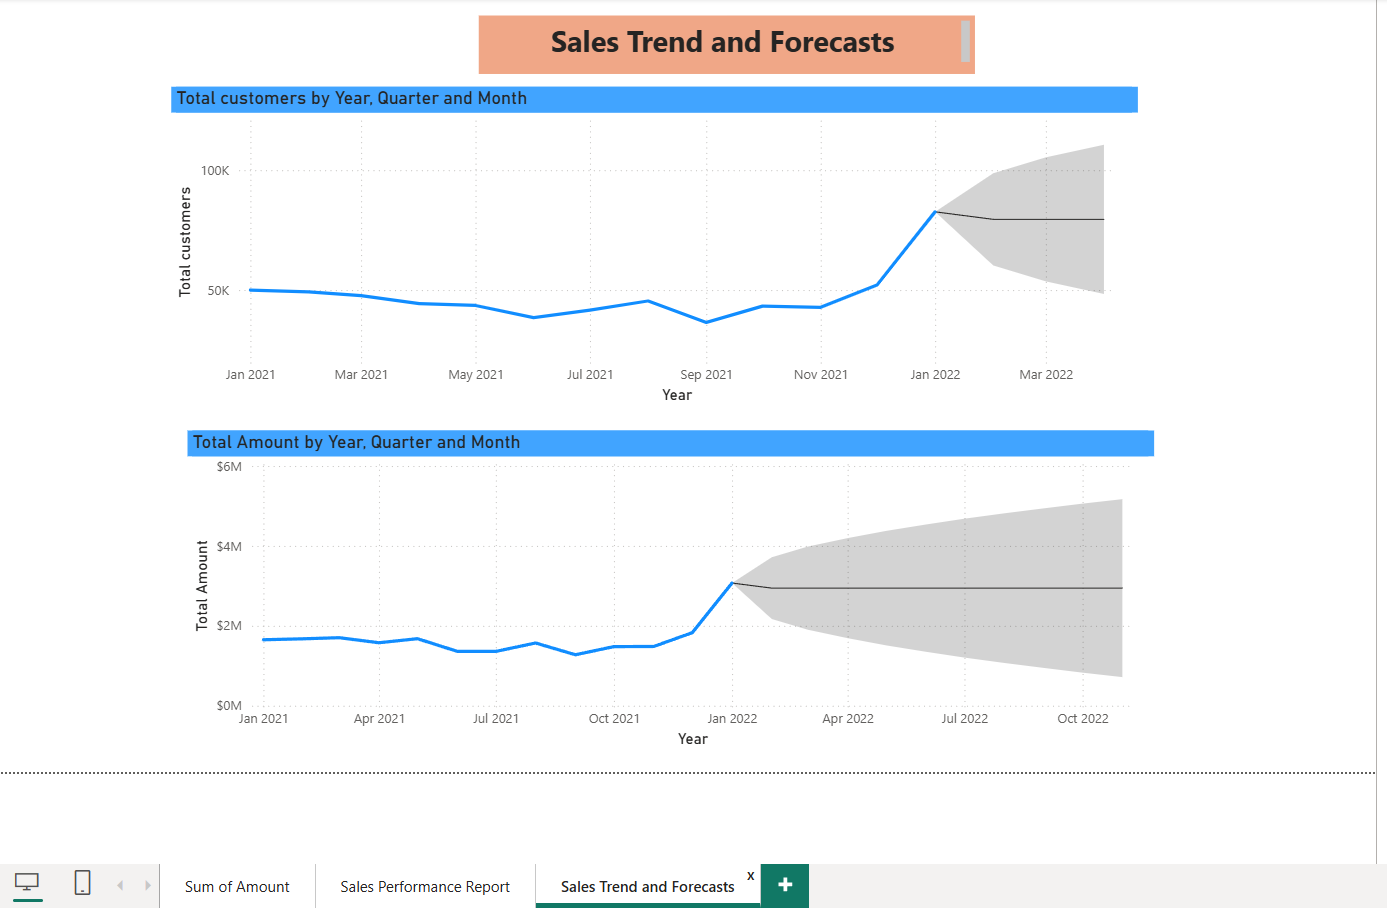

The dashboard page shown, as its layout file describes it:
{"tool":"powerbi","page":{"name":"Sales Trend and Forecasts","canvas":[1280,720],"ordinal":2},"visuals":[{"type":"textbox","box":[445.4,16.3,461.6,54.7],"z":0},{"type":"lineChart","fields":{"Category":["sales.Date.Variation.Date Hierarchy.Year","sales.Date.Variation.Date Hierarchy.Quarter","sales.Date.Variation.Date Hierarchy.Month","sales.Date.Variation.Date Hierarchy.Day"],"Y":["sales.Total customers"]},"box":[159.3,82.6,898.8,300],"z":1000},{"type":"lineChart","fields":{"Category":["sales.Date.Variation.Date Hierarchy.Year","sales.Date.Variation.Date Hierarchy.Quarter","sales.Date.Variation.Date Hierarchy.Month","sales.Date.Variation.Date Hierarchy.Day"],"Y":["sales.Total Amount"]},"box":[174.4,402.3,898.8,300],"z":2000}]}

Visuals, with their boxes on the page's 1280x720 design canvas (x1, y1, x2, y2). These are canvas units, not pixel positions in the 1387x908 screenshot, which may show the page scaled, cropped or inside an application window:
textbox: box=[445, 16, 907, 71]
lineChart - sales.Date.Variation.Date Hierarchy.Year x sales.Date.Variation.Date Hierarchy.Quarter: box=[159, 83, 1058, 383]
lineChart - sales.Date.Variation.Date Hierarchy.Year x sales.Date.Variation.Date Hierarchy.Quarter: box=[174, 402, 1073, 702]
